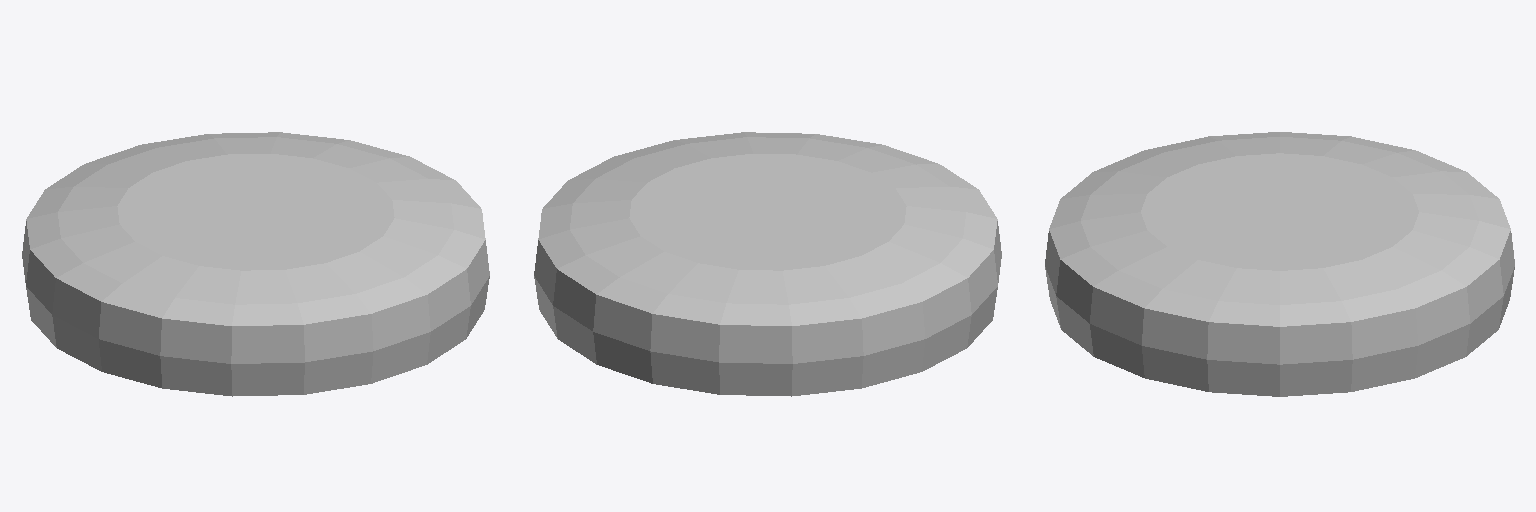
File: Button.obj
3 renders of one model, left to right at view 1: azimuth 30°, elevation 25°; view 2: azimuth 150°, elevation 25°; view 3: azimuth 270°, elevation 25°, orthographic.
Parts seen in each view (by area): view 1: pCylinder1; view 2: pCylinder1; view 3: pCylinder1.
Boxes of the visible parts, x1=… form: pCylinder1: x1=22, y1=132, x2=489, y2=396; pCylinder1: x1=534, y1=132, x2=1001, y2=396; pCylinder1: x1=1045, y1=132, x2=1514, y2=396.
Size of the model in its own units: 2.05 by 0.4209 by 2.05.